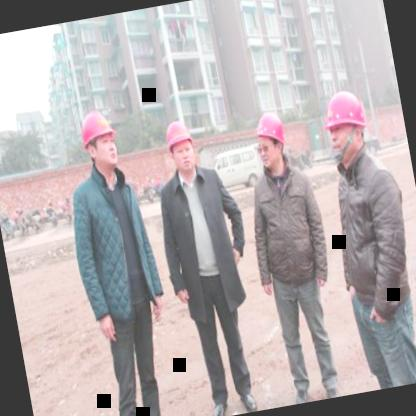helmet: (316, 84, 380, 172), (72, 102, 124, 178), (247, 104, 295, 178), (159, 115, 201, 180)
